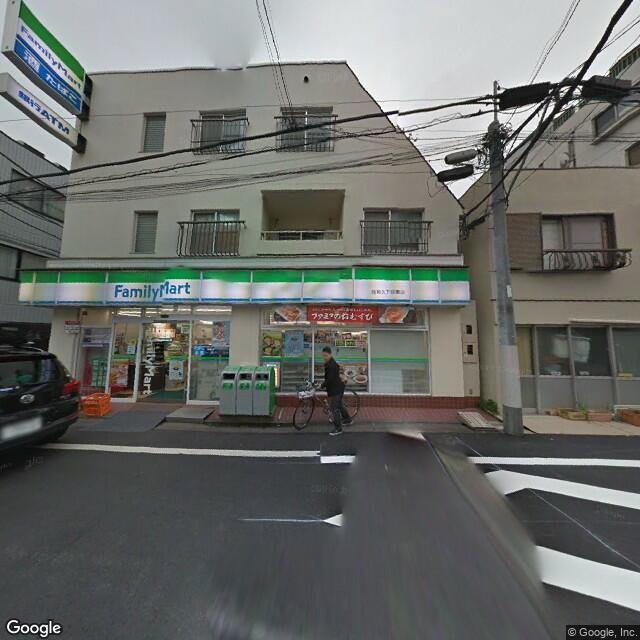family_mart: (16, 262, 473, 307), (14, 1, 85, 109)
